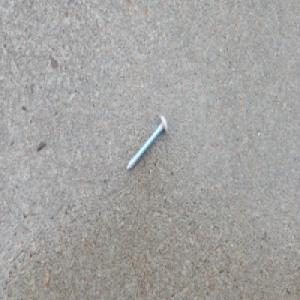Nail: (125, 112, 168, 172)
